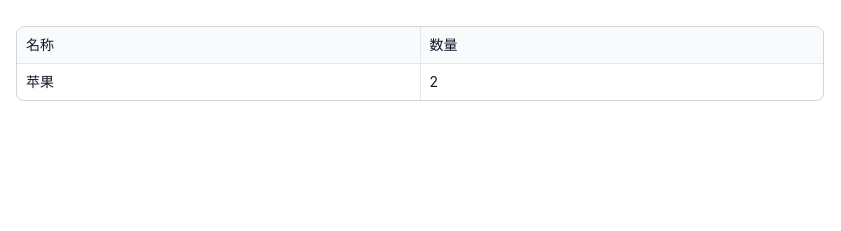
Test: Editor › Markdown 语法高亮 › 应该根据当前单元格显示浮动表格菜单并在离开后隐藏
Focus the field named "第 2 行第 1 列". click: (218, 82)
box: [17, 64, 420, 100]
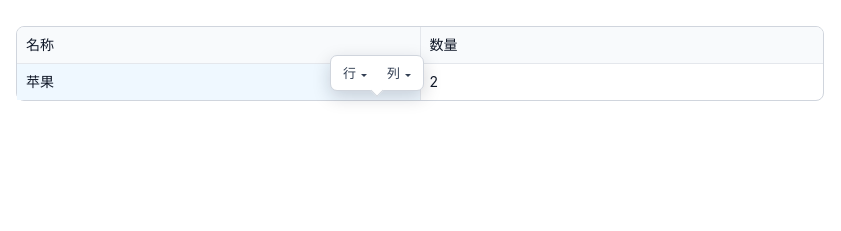
Check: the element named "第 1 行第 1 列操作" is shown, box [330, 55, 424, 91]
Check: the button named "列操作" is shown, box [378, 59, 420, 87]
Click the button named "行操作". click: click(355, 73)
box: [334, 59, 376, 87]
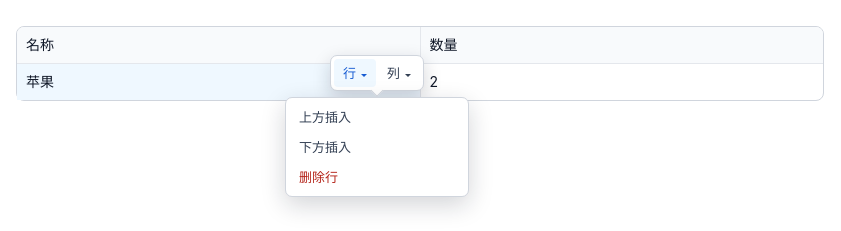
Check: the menu item with aria-label "在当前行上方插入一行" is enabled, box [290, 102, 464, 132]
Check: the menu item with aria-label "删除当前行" is enabled, box [290, 162, 464, 192]
Focus the field named "第 1 行第 2 列". click: (622, 45)
box: [420, 27, 823, 63]
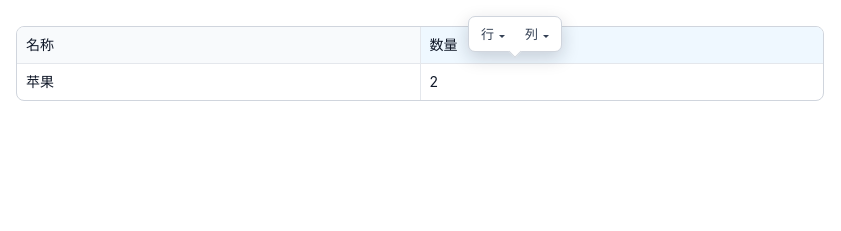
Check: the element named "表头第 2 列操作" is shown, box [468, 16, 562, 52]
Click the button named "行操作". click: click(493, 34)
box: [472, 20, 514, 48]
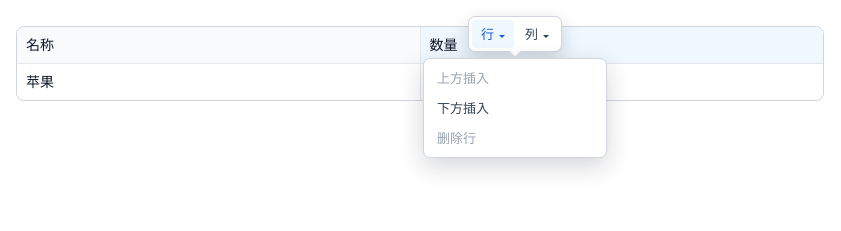
Check: the menu item with aria-label "在当前行上方插入一行" is disabled, box [428, 63, 602, 93]
Check: the menu item with aria-label "删除当前行" is disabled, box [428, 123, 602, 153]
Leave the field named "第 1 行第 2 列", box [420, 27, 823, 63]
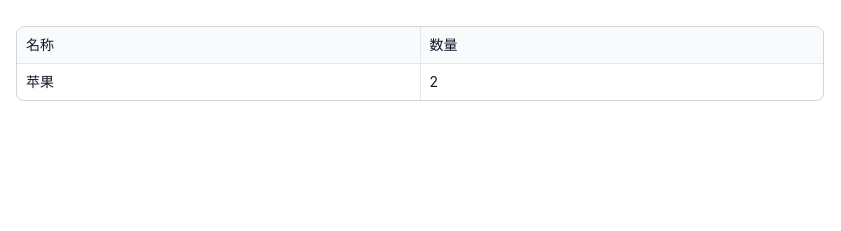
Check: the button "表头第 2 列操作" is gone
